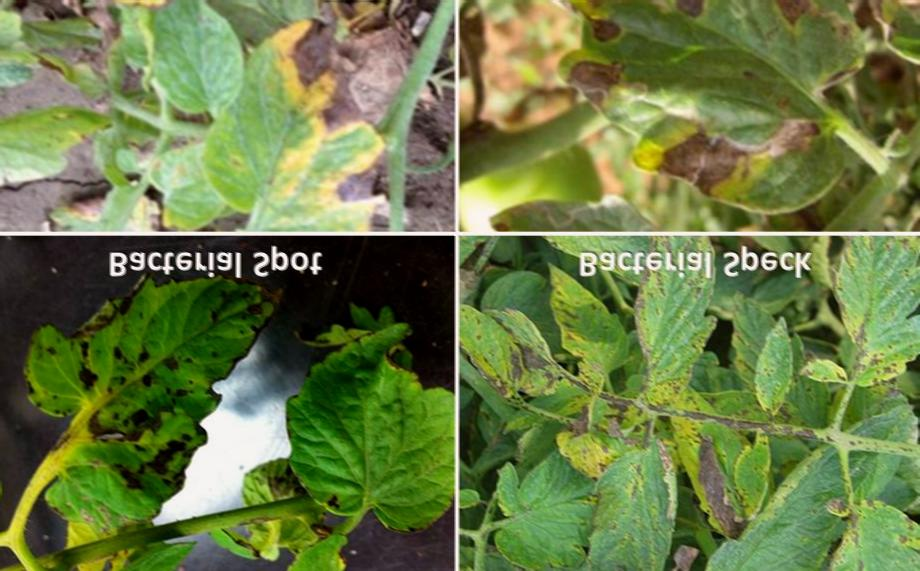Tomato Early blight leaf: (20, 0, 401, 220)
Tomato leaf bacterial spot: (20, 254, 277, 522), (258, 293, 453, 524), (708, 398, 904, 571), (617, 240, 724, 428), (793, 243, 920, 396), (574, 422, 688, 571), (742, 318, 813, 435), (727, 437, 778, 528)
